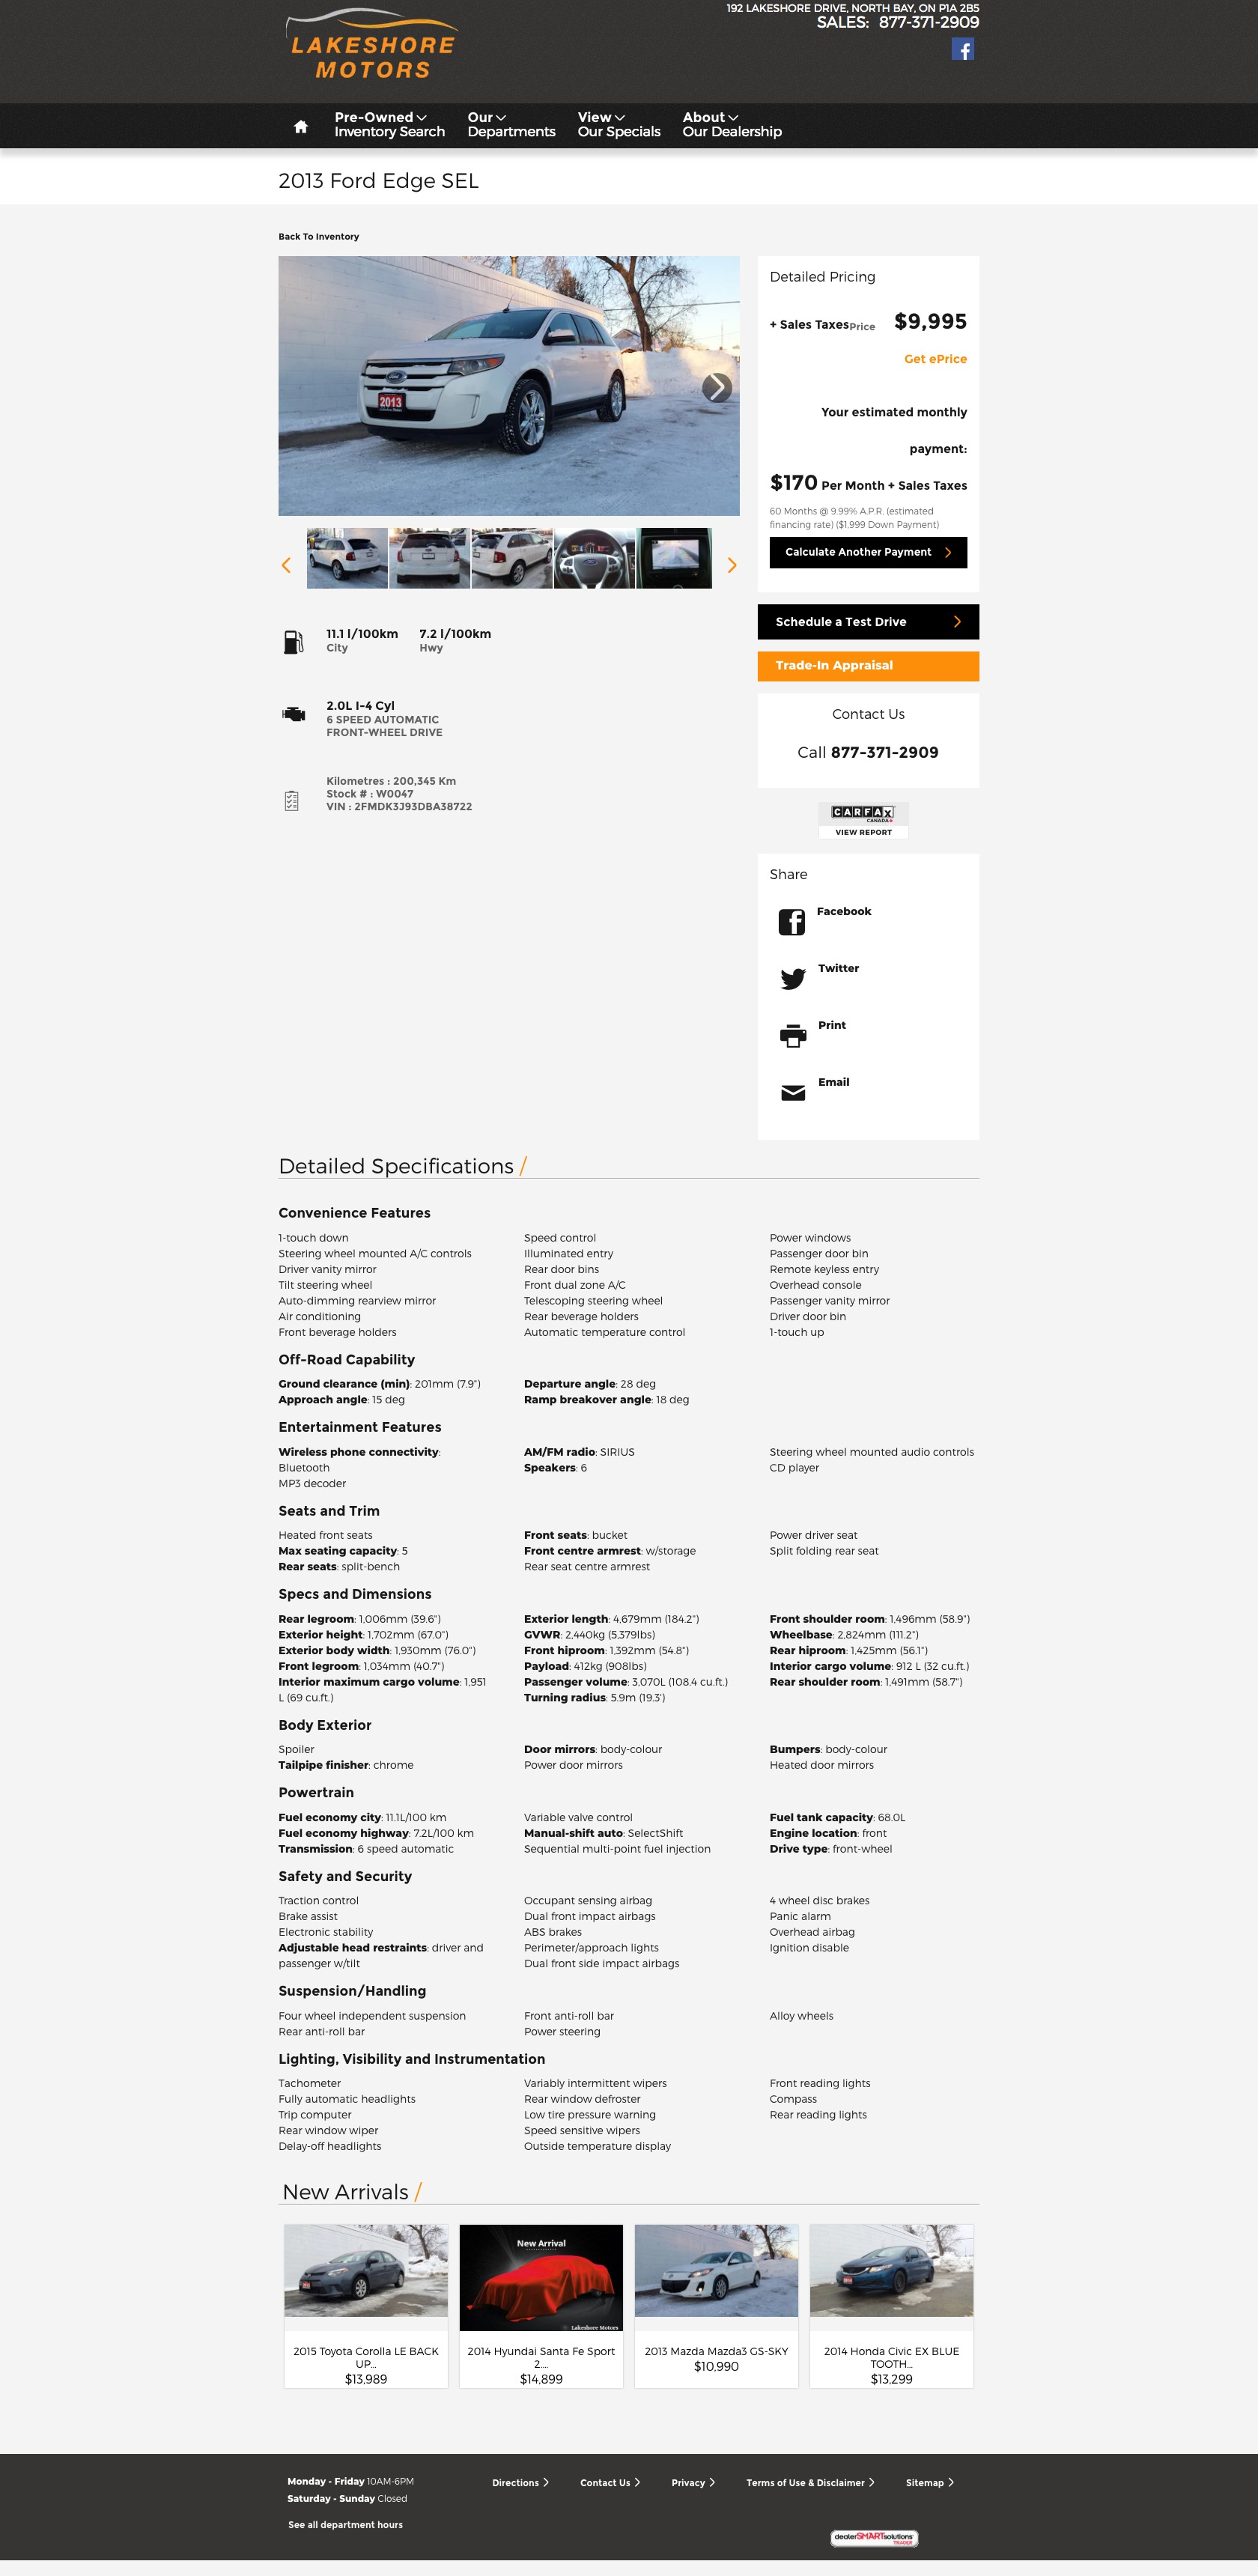car: (728, 557, 737, 575)
